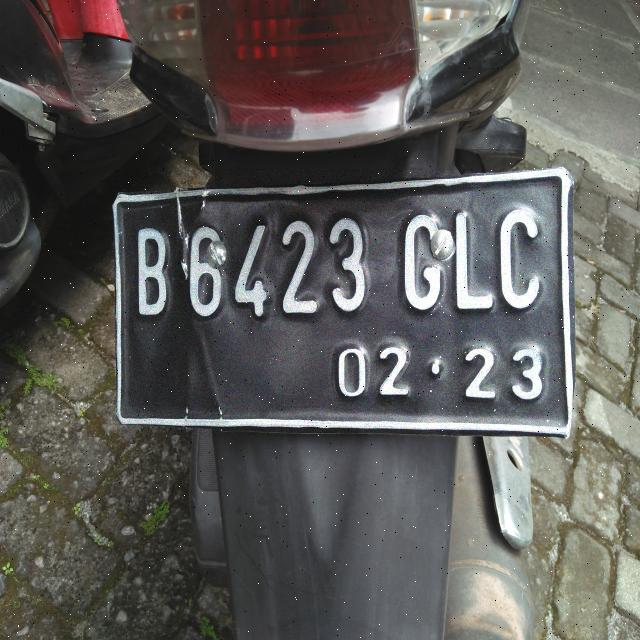plate: (114, 170, 573, 435)
